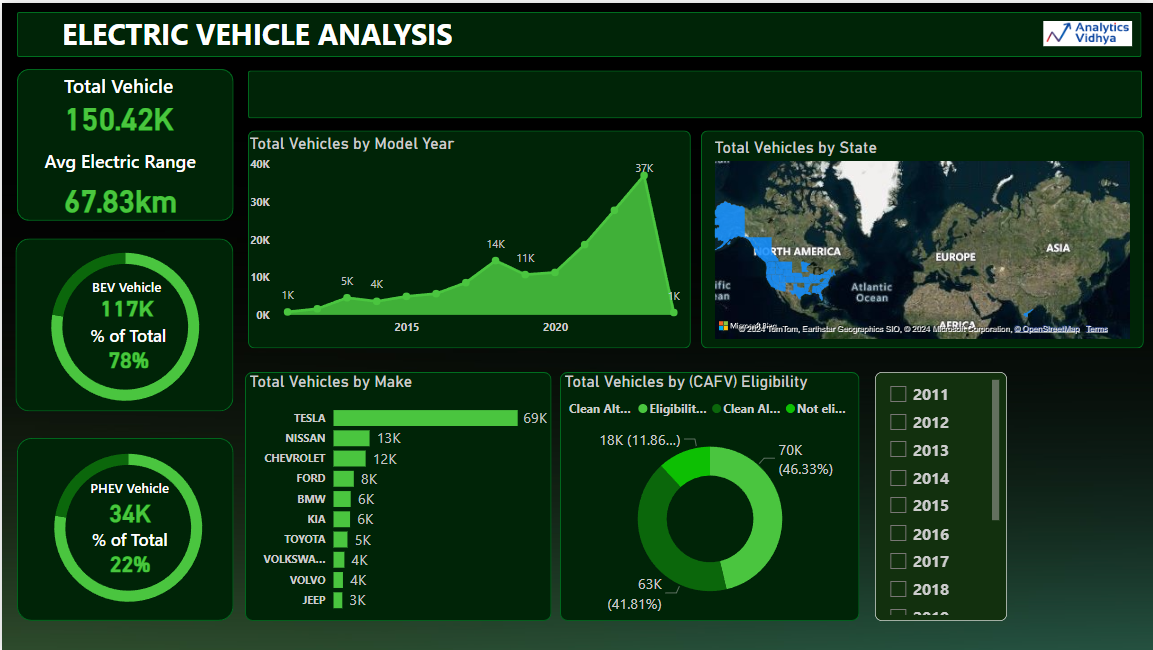

The dashboard page shown, as its layout file describes it:
{"tool":"powerbi","page":{"name":"Page 1","canvas":[1280,720],"ordinal":0},"visuals":[{"type":"shape","box":[17.2,9.4,1249.5,50],"z":0},{"type":"textbox","box":[62.5,6.2,495.1,56.2],"z":1000},{"type":"shape","box":[17.2,73.4,240.5,168.7],"z":2000},{"type":"card","title":"Total Vehicle","fields":{"Values":["Electric_Vehicle_Population_Data.Total Vehicles"]},"box":[21.9,76.5,215.5,70.3],"z":3000},{"type":"card","title":"Avg Electric Range","fields":{"Values":["Electric_Vehicle_Population_Data.Avg range"]},"box":[39,160.9,185.9,84.3],"z":4000},{"type":"shape","box":[15.6,262.4,242.1,192.1],"z":5000},{"type":"donutChart","fields":{"Category":["Electric_Vehicle_Population_Data.Electric Vehicle Type"],"Y":["Electric_Vehicle_Population_Data.Total Vehicles"]},"box":[12.5,251.5,249.9,215.5],"z":6000},{"type":"card","title":"BEV Vehicle","fields":{"Values":["Electric_Vehicle_Population_Data.BEV Vehicles"]},"box":[53.1,304.6,170.2,48.4],"z":7000},{"type":"card","title":"% of Total","fields":{"Values":["Electric_Vehicle_Population_Data.% of BEV"]},"box":[57.8,356.1,164,54.7],"z":8000},{"type":"donutChart","fields":{"Category":["Electric_Vehicle_Population_Data.Electric Vehicle Type"],"Y":["Electric_Vehicle_Population_Data.Total Vehicles"]},"box":[4.7,471.7,260.8,240.5],"z":9000},{"type":"shape","box":[17.2,484.2,240.5,203],"z":10000},{"type":"donutChart","fields":{"Category":["Electric_Vehicle_Population_Data.Electric Vehicle Type"],"Y":["Electric_Vehicle_Population_Data.Total Vehicles"]},"box":[15.6,474.8,249.9,215.5],"z":11000},{"type":"card","title":"% of Total","fields":{"Values":["Electric_Vehicle_Population_Data.% of PHEV"]},"box":[59.3,582.6,164,54.7],"z":12000},{"type":"card","title":"PHEV Vehicle","fields":{"Values":["Electric_Vehicle_Population_Data.PHEV Vehicles"]},"box":[56.2,527.9,170.2,54.7],"z":13000},{"type":"shape","box":[273.3,142.1,492,242.1],"z":14000},{"type":"areaChart","fields":{"Category":["Electric_Vehicle_Population_Data.Model Year"],"Y":["Electric_Vehicle_Population_Data.Total Vehicles"]},"box":[270.2,145.2,495.1,232.7],"z":15000},{"type":"shape","box":[273.3,75,993.3,53.1],"z":16000},{"type":"shape","box":[776.2,142.1,492,242.1],"z":17000},{"type":"filledMap","fields":{"Category":["Electric_Vehicle_Population_Data.State"]},"box":[787.2,149.9,471.7,228],"z":18000},{"type":"shape","box":[270.2,410.8,340.5,276.4],"z":19000},{"type":"barChart","fields":{"Category":["Electric_Vehicle_Population_Data.Make"],"Y":["Electric_Vehicle_Population_Data.Total Vehicles"]},"box":[270.2,410.8,340.5,276.4],"z":20000},{"type":"image","box":[1151.1,9.4,109.3,48.4],"z":21000},{"type":"shape","box":[620,410.8,332.7,276.4],"z":22000},{"type":"donutChart","title":"Total Vehicles by (CAFV) Eligibility","fields":{"Category":["Electric_Vehicle_Population_Data.Clean Alternative Fuel Vehicle (CAFV) Eligibility"],"Y":["Electric_Vehicle_Population_Data.Total Vehicles"]},"box":[620,410.8,332.7,276.4],"z":23000},{"type":"slicer","fields":{"Values":["Electric_Vehicle_Population_Data.Model Year"]},"box":[969.9,410.8,146.8,276.4],"z":23001}]}

Visuals, with their boxes in screenshot pixels (x1, y1, x2, y2), scaled from the page's 1280x720 canvas onto the 1153x650 screenshot:
shape: box=[15, 8, 1141, 54]
textbox: box=[56, 6, 502, 56]
shape: box=[15, 66, 232, 219]
"Total Vehicle" card: box=[20, 69, 214, 133]
"Avg Electric Range" card: box=[35, 145, 203, 221]
shape: box=[14, 237, 232, 410]
donutChart - Electric_Vehicle_Population_Data.Electric Vehicle Type x Electric_Vehicle_Population_Data.Total Vehicles: box=[11, 227, 236, 422]
"BEV Vehicle" card: box=[48, 275, 201, 319]
"% of Total" card: box=[52, 321, 200, 371]
donutChart - Electric_Vehicle_Population_Data.Electric Vehicle Type x Electric_Vehicle_Population_Data.Total Vehicles: box=[4, 426, 239, 643]
shape: box=[15, 437, 232, 620]
donutChart - Electric_Vehicle_Population_Data.Electric Vehicle Type x Electric_Vehicle_Population_Data.Total Vehicles: box=[14, 429, 239, 623]
"% of Total" card: box=[53, 526, 201, 575]
"PHEV Vehicle" card: box=[51, 477, 204, 526]
shape: box=[246, 128, 689, 347]
areaChart - Electric_Vehicle_Population_Data.Model Year x Electric_Vehicle_Population_Data.Total Vehicles: box=[243, 131, 689, 341]
shape: box=[246, 68, 1141, 116]
shape: box=[699, 128, 1142, 347]
filledMap - Electric_Vehicle_Population_Data.State: box=[709, 135, 1134, 341]
shape: box=[243, 371, 550, 620]
barChart - Electric_Vehicle_Population_Data.Make x Electric_Vehicle_Population_Data.Total Vehicles: box=[243, 371, 550, 620]
image: box=[1037, 8, 1135, 52]
shape: box=[558, 371, 858, 620]
"Total Vehicles by (CAFV) Eligibility" donutChart: box=[558, 371, 858, 620]
slicer - Electric_Vehicle_Population_Data.Model Year: box=[874, 371, 1006, 620]
